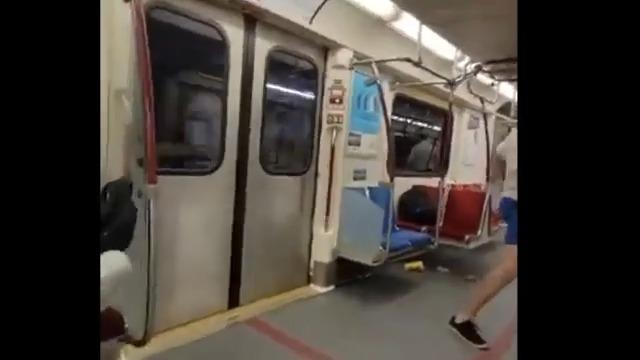non-violence: (448, 125, 518, 347)
